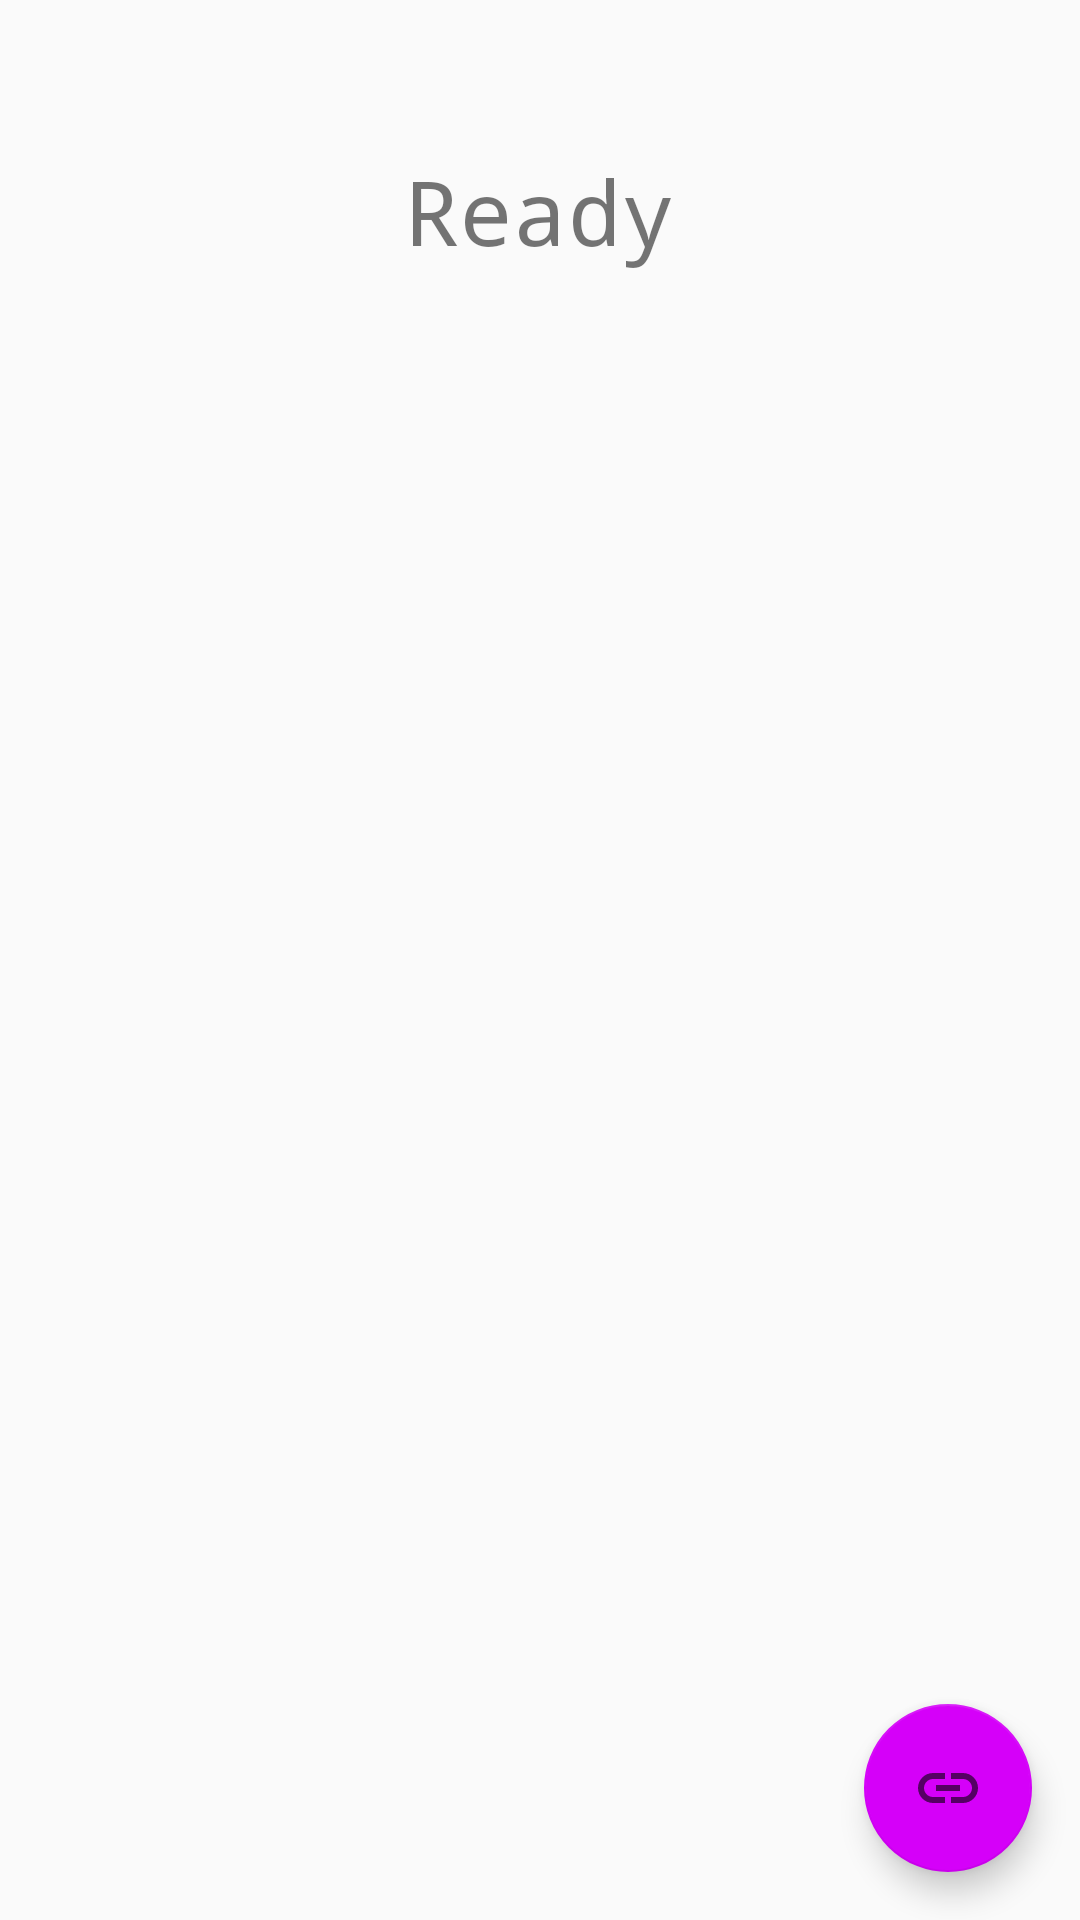

Where to tap for icons on this 1080*1920 app screen, as (x,y):
Connect: (948,1788)
